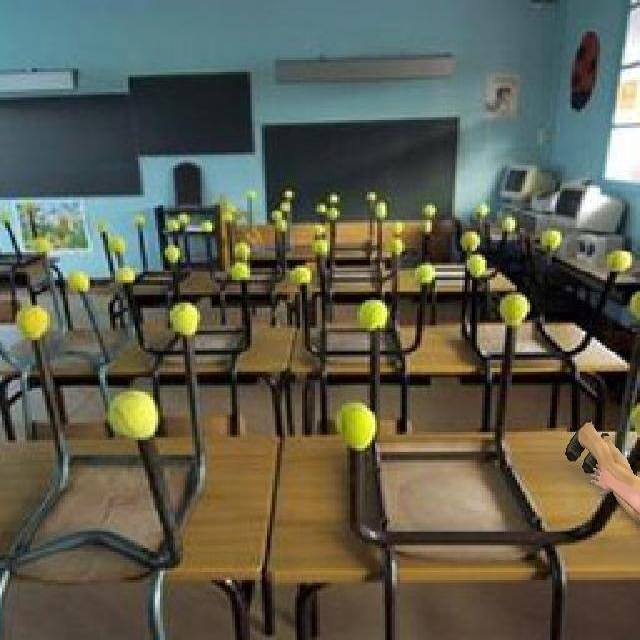obstacle: (559, 409, 640, 520)
